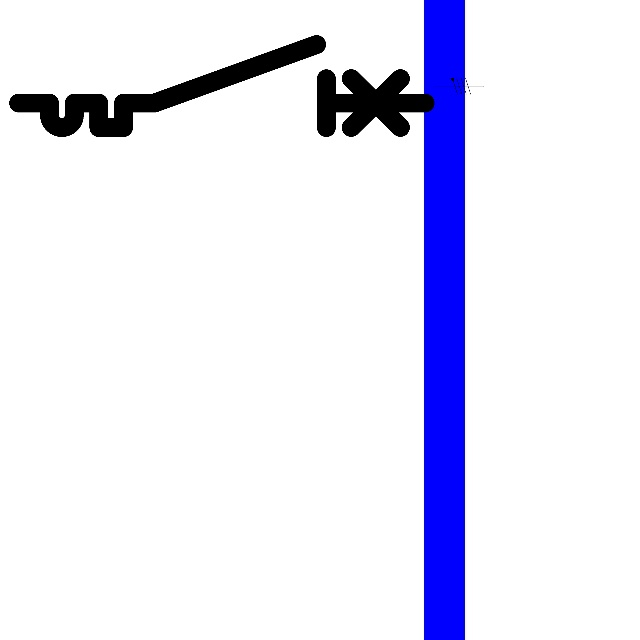interruptor_termomagnetico: (8, 34, 435, 138)
